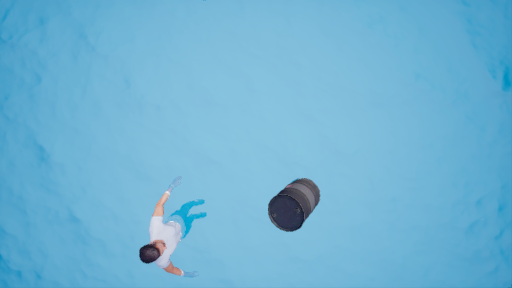person: (136, 175, 218, 277)
